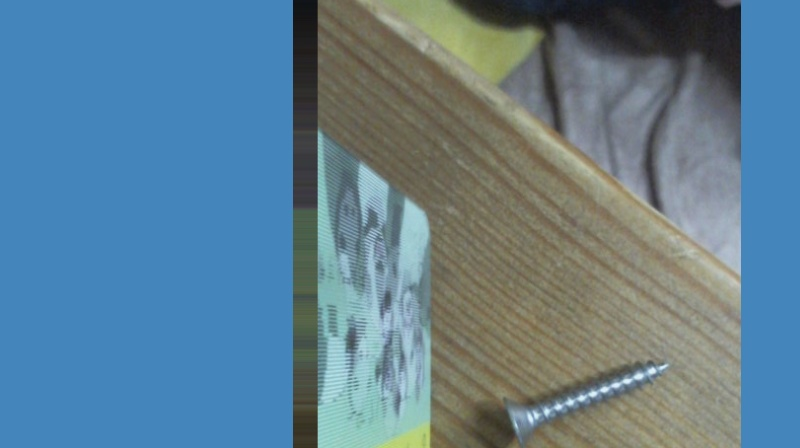S001: (501, 351, 672, 447)
